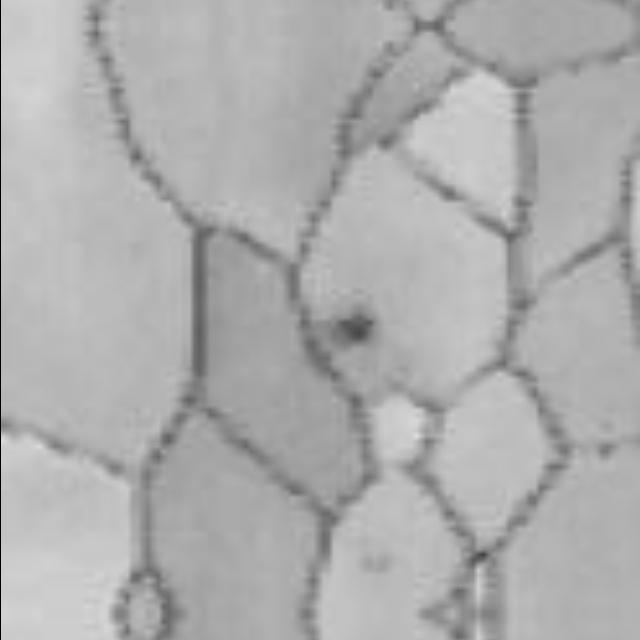good_void: (330, 321, 372, 347), (599, 450, 614, 460)
